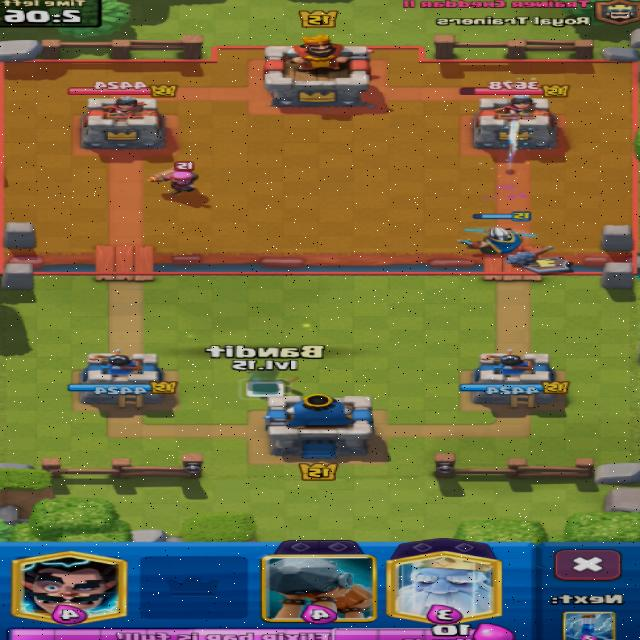Enemy-Firecracker: (146, 169, 200, 195)
Enemy-KingTower: (265, 35, 370, 108)
Enemy-PrincessTower: (470, 95, 559, 150), (82, 97, 166, 149)
Player-KingTower: (265, 394, 374, 460)
Player-MagicArcher: (460, 227, 536, 255)
Player-PrincessTower: (460, 350, 569, 408), (80, 350, 176, 408)
